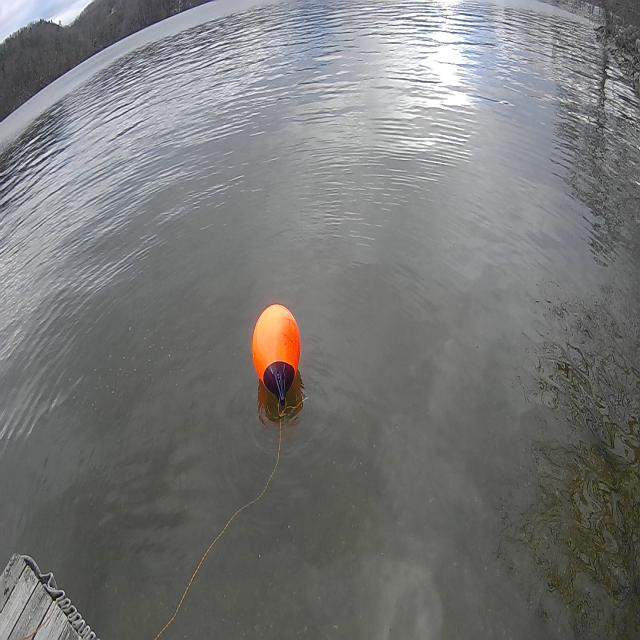Buoy: (250, 296, 304, 420)
